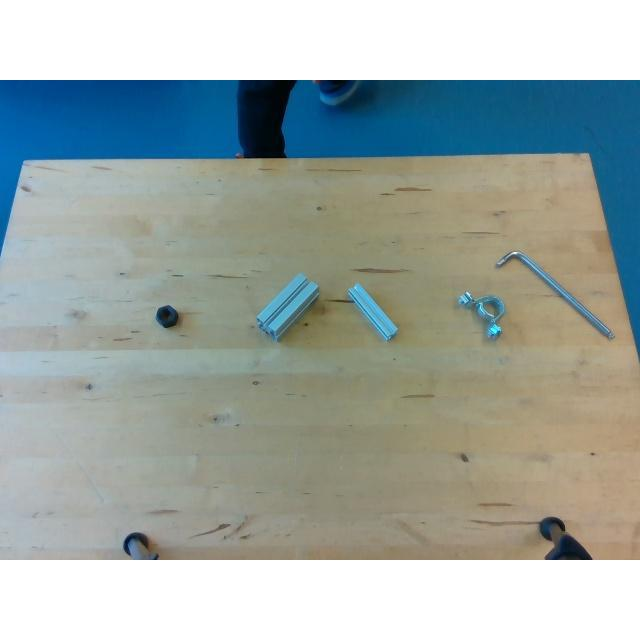AllenKey: (496, 250, 616, 342)
F20_20_G: (348, 282, 398, 338)
Housing: (456, 292, 504, 336)
M20: (155, 306, 179, 326)
S40_40_G: (255, 273, 318, 337)
